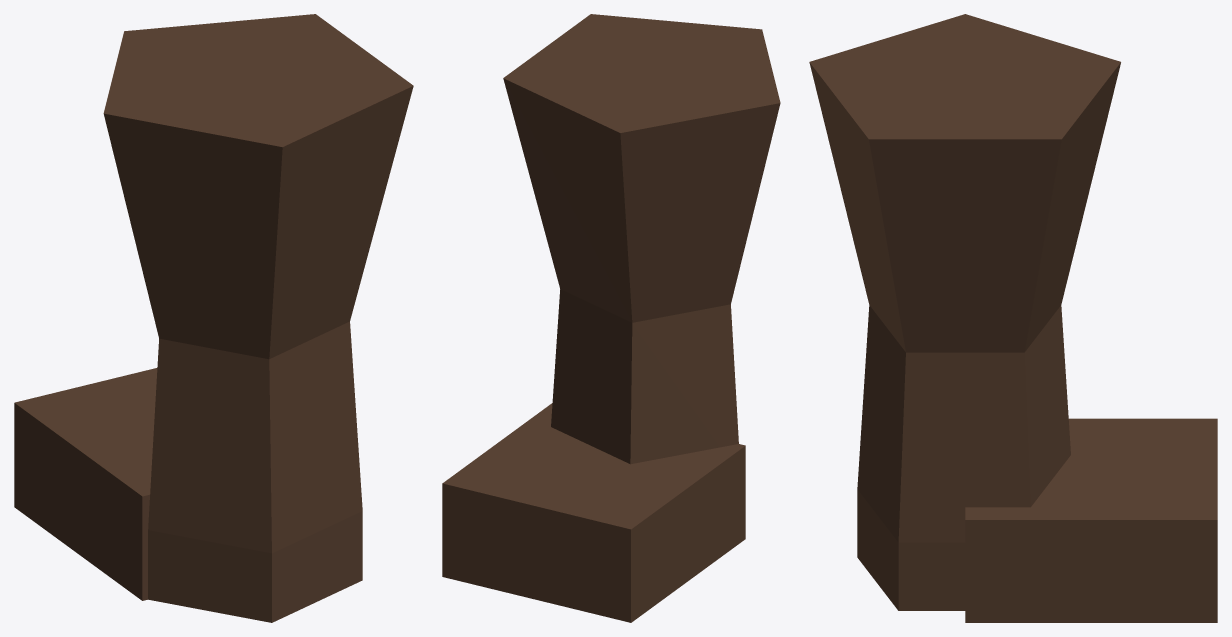
The model's file is animal_bear_grizzly_leg.obj.
The picture shows the model from 3 angles, left to right: view 1: azimuth 30°, elevation 25°; view 2: azimuth 150°, elevation 25°; view 3: azimuth 270°, elevation 25°; orthographic projection. The views are drawn at different scales.
Visible parts, largest first — view 1: animal_bear_grizzly_leg; view 2: animal_bear_grizzly_leg; view 3: animal_bear_grizzly_leg.
Boxes of the visible parts, x1,y1,x2,y2 form: animal_bear_grizzly_leg: (14, 14, 413, 622); animal_bear_grizzly_leg: (442, 14, 780, 622); animal_bear_grizzly_leg: (809, 14, 1217, 622).
Bounding box in the file's own units: 0.2836 × 0.5158 × 0.3903.
